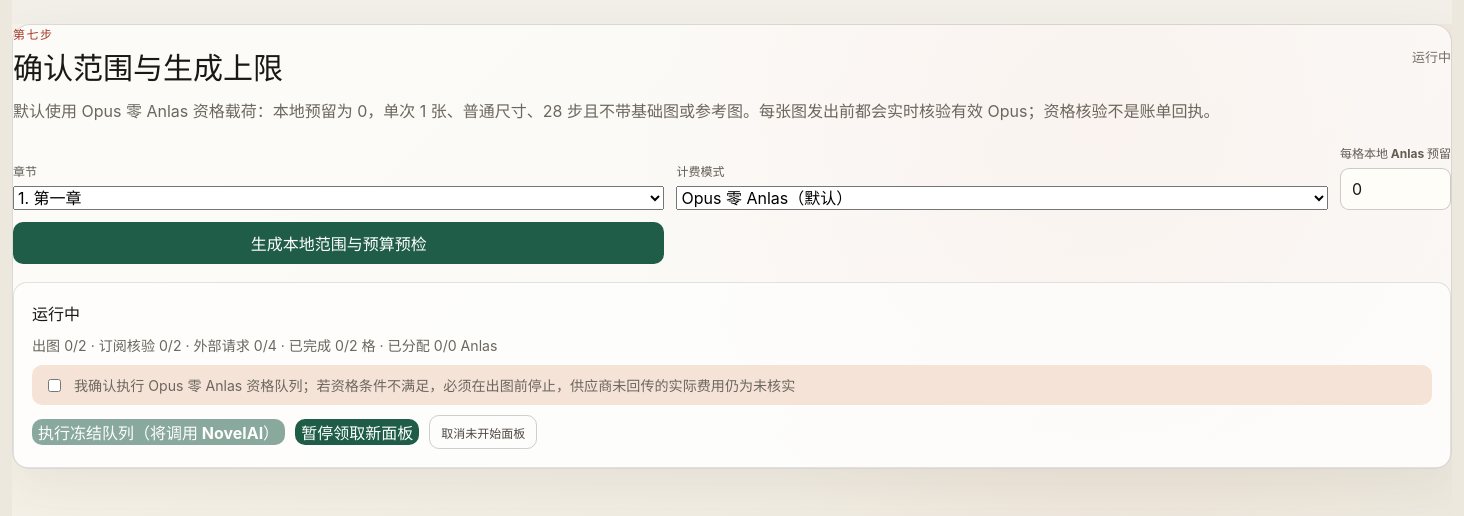
Test: sends the frozen queue only after a second explicit execution confirmation
Check: the button "执行冻结队列（将调用 NovelAI）" is disabled, box [32,419,285,445]
Click the checkbox labelled "我确认执行 Opus 零 Anlas 资格队列；若资格条件不满足，必须在出图前停止，供应商未回传的实际费用仍为未核实".
click(54, 385)  # box [48,379,61,392]
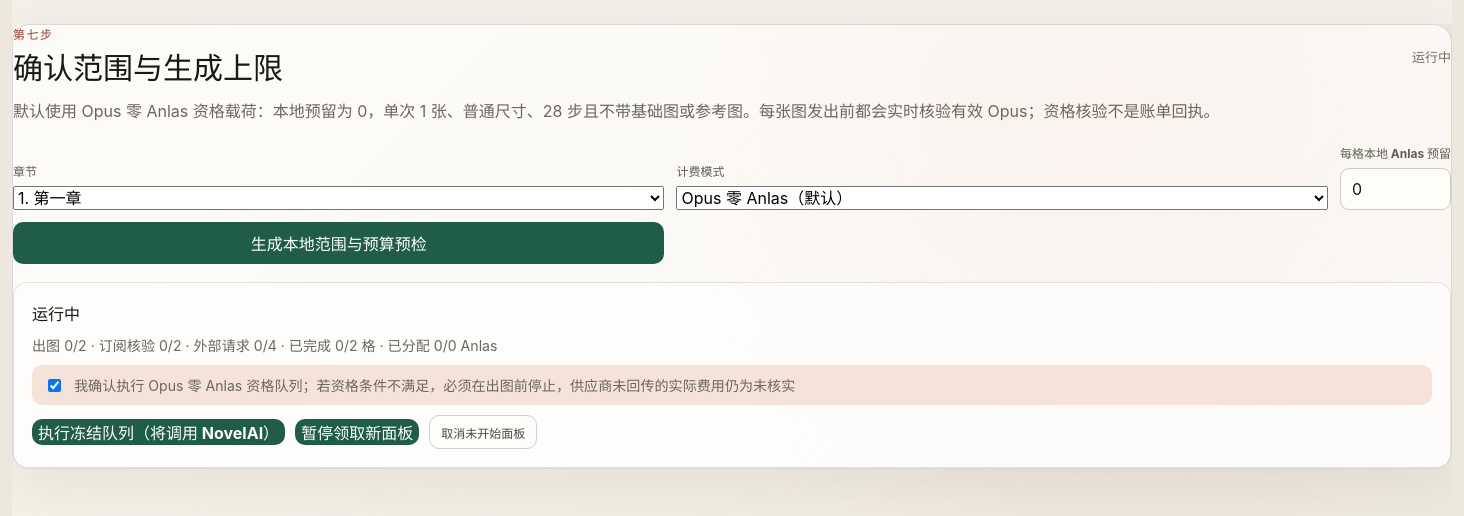
Click the button "执行冻结队列（将调用 NovelAI）".
click(159, 432)  # box [32,419,285,445]
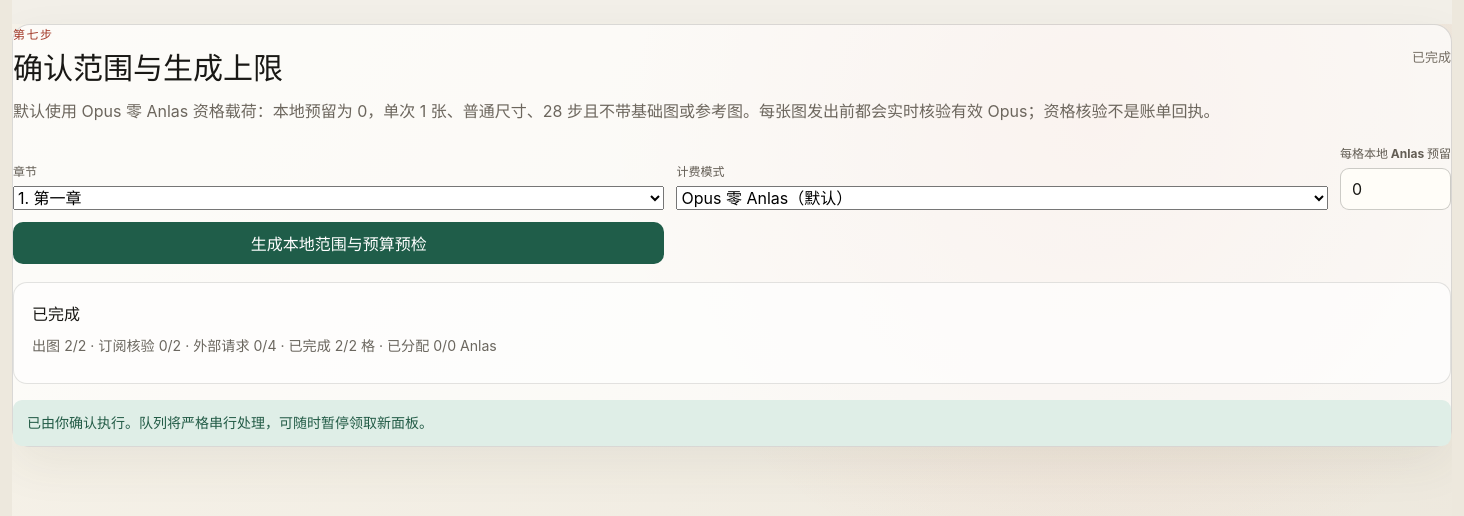
Check: the text "已由你确认执行。队列将严格串行处理，可随时暂停领取新面板。" is shown, box [13,400,1451,446]
Check: the text "已完成" is shown 2 times, box [1412,47,1451,66]; [32,304,80,324]
